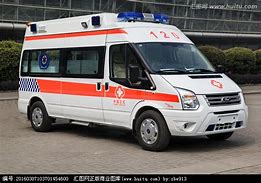specialcar: (16, 18, 252, 153)
